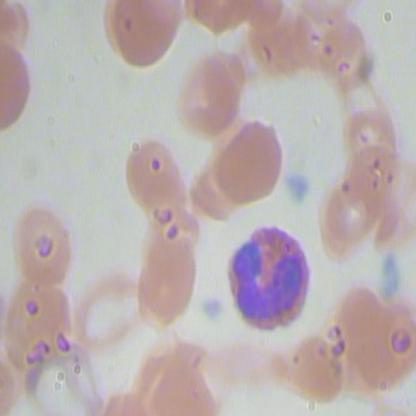Platelets: (199, 296, 224, 324), (285, 172, 308, 202)
RBC: (0, 278, 74, 381), (211, 116, 289, 206), (175, 49, 247, 137), (72, 267, 146, 352), (278, 328, 349, 416), (310, 170, 380, 257), (124, 133, 193, 219), (104, 1, 184, 74), (136, 236, 200, 322), (11, 204, 74, 290), (316, 14, 374, 85), (341, 106, 398, 177)
WBC: (222, 225, 313, 334)
